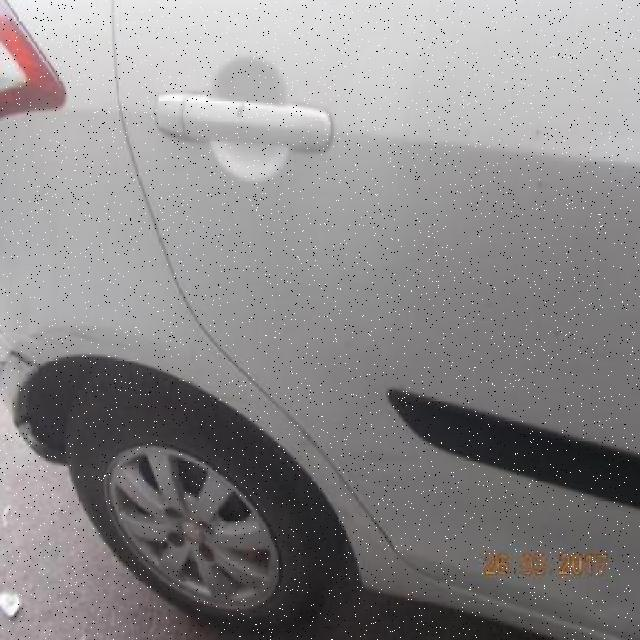damage: (291, 407, 433, 531), (0, 323, 113, 423)
